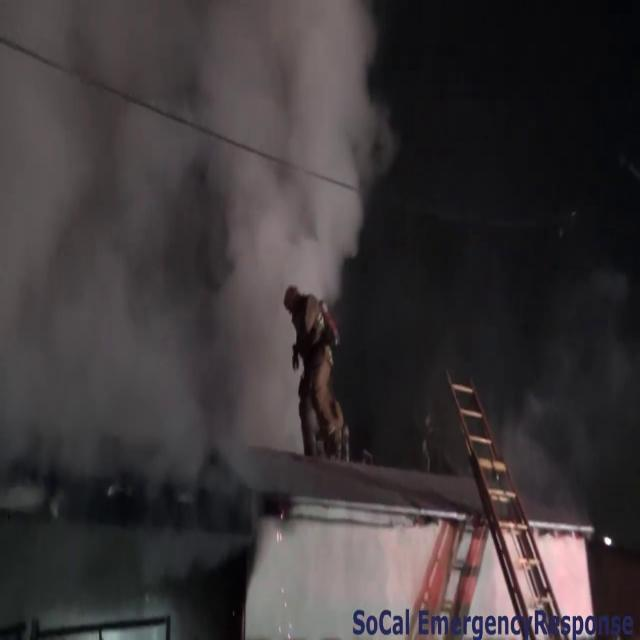Smoke: (0, 1, 388, 604)
